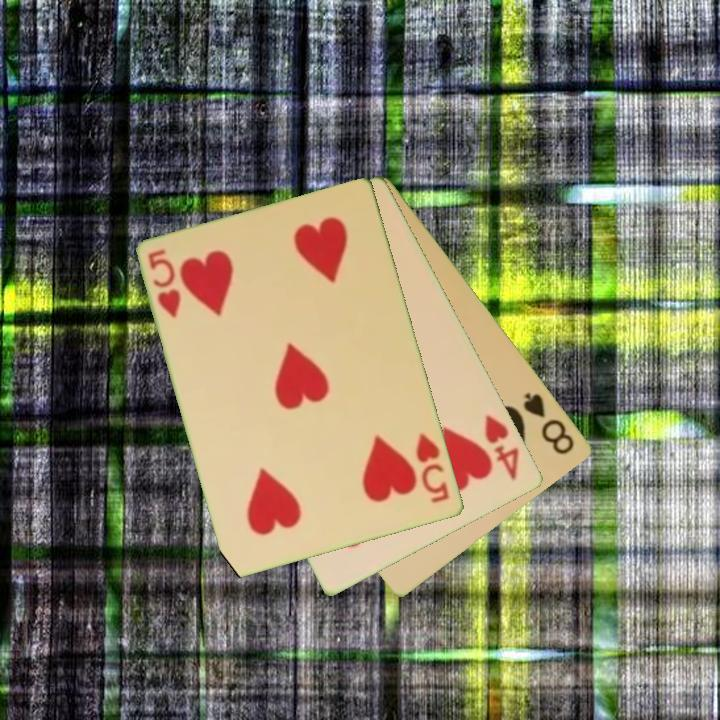4h: (481, 411, 523, 483)
5h: (413, 430, 453, 507), (144, 246, 184, 322)
8s: (520, 388, 578, 458)
